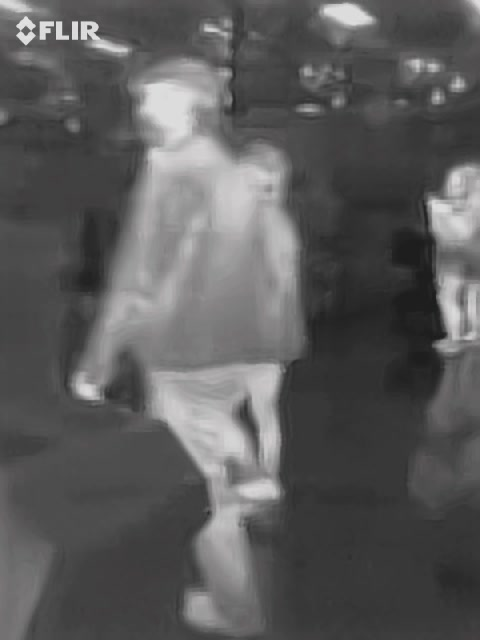head: (132, 53, 218, 146)
